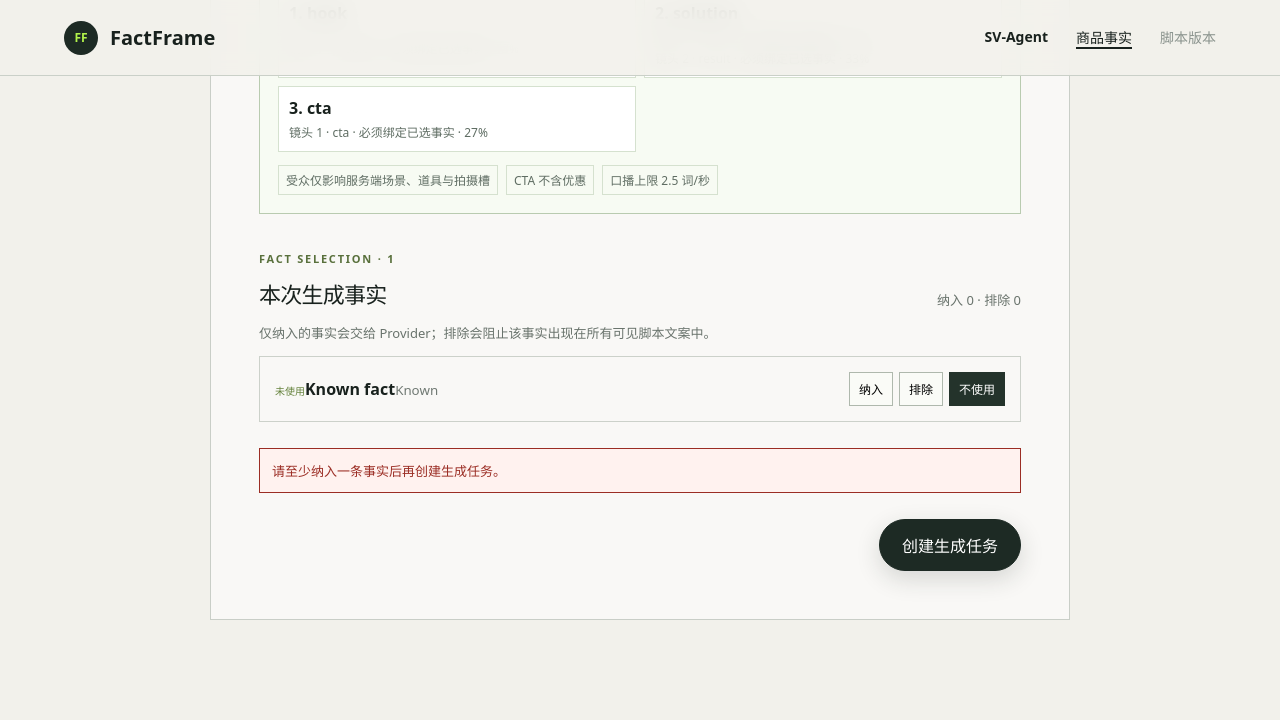
it: generation jobs › opens the original Job when generation returns malformed JSON with Location
(page scrolled)
Click the button "纳入" at x=871, y=389, box [849, 372, 893, 406]
(page scrolled)
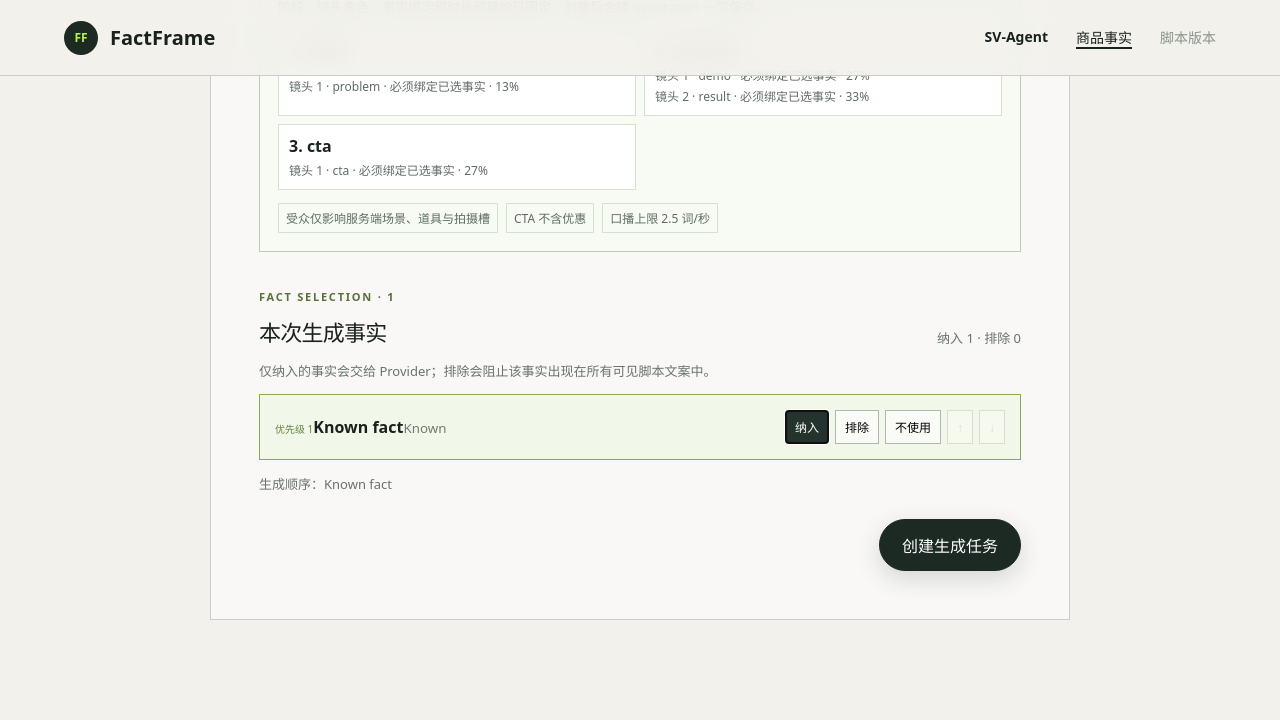
Click the button "创建生成任务" at x=950, y=545, box [879, 519, 1021, 571]
(page scrolled)
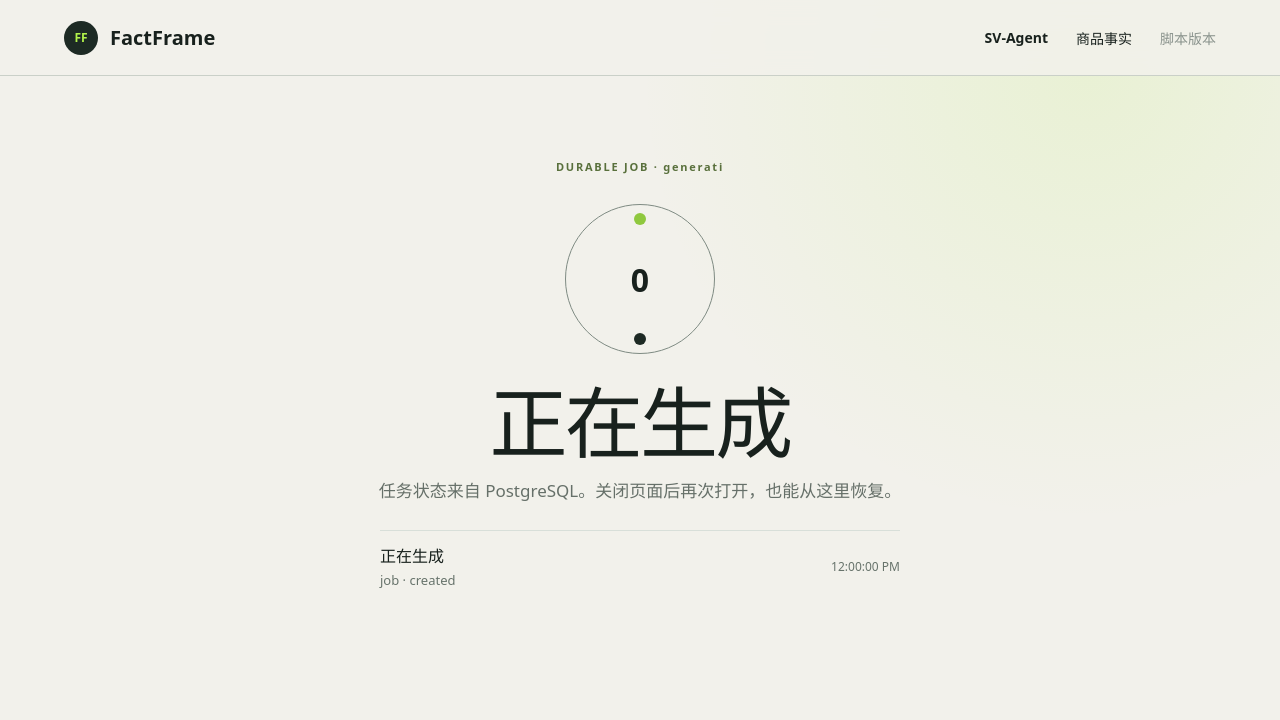
Expected: the message reads "正在生成", [490, 369, 791, 475]
